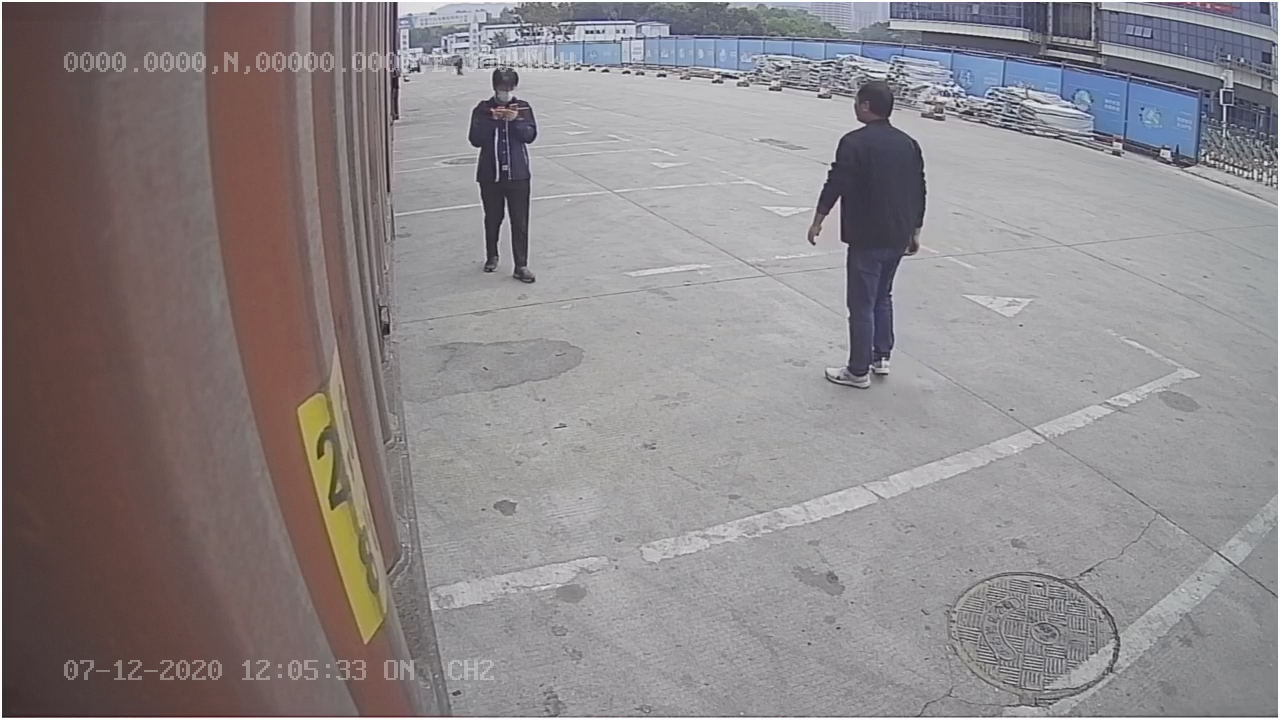person: (804, 80, 925, 391)
